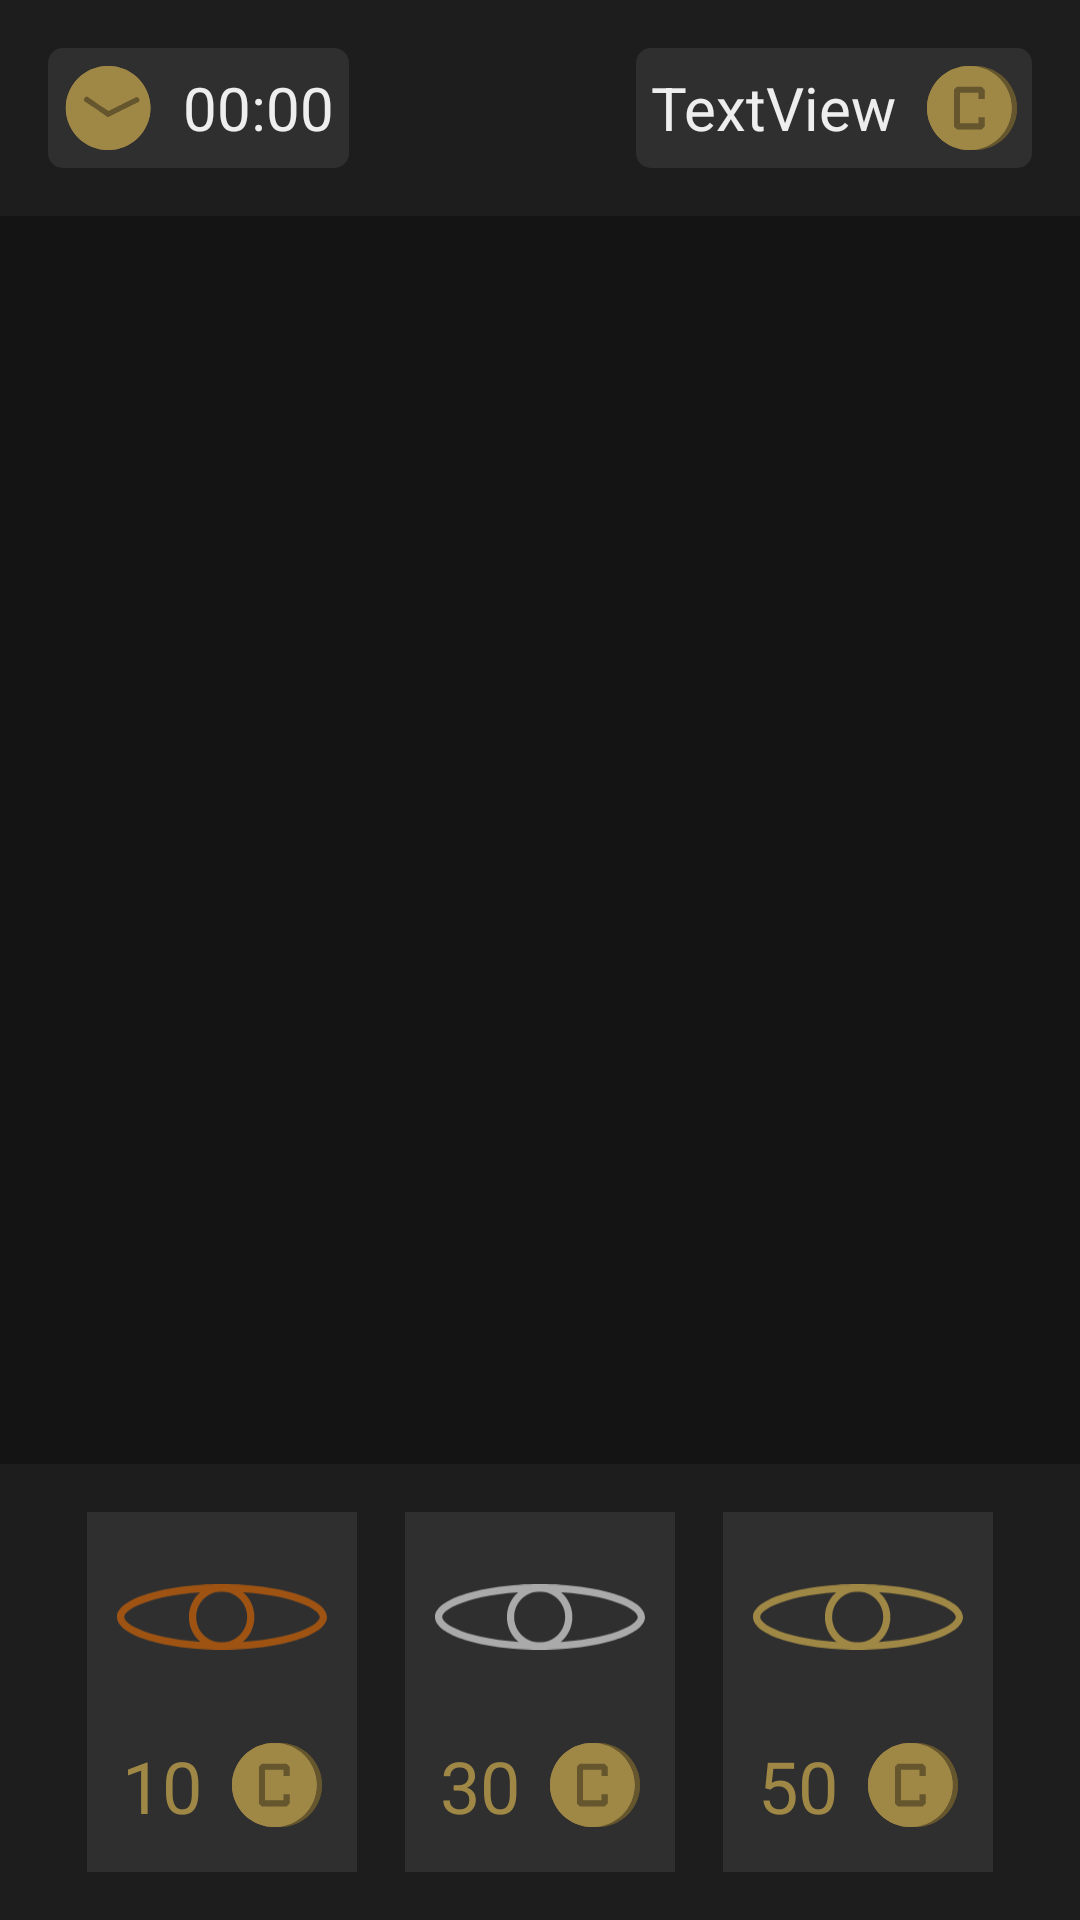

Named icons in this screenshot (1080x1920) and their bounding boxes, (x1, y1, x2, y2):
coin: (927, 66, 1017, 150), (232, 1743, 322, 1827), (550, 1743, 640, 1827), (868, 1743, 958, 1827)
eye: (117, 1584, 327, 1650), (435, 1584, 645, 1650), (753, 1584, 963, 1650)
stopwatch: (65, 66, 151, 150)
